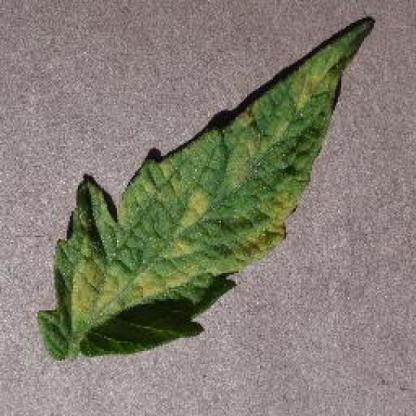Strawberry_Anthracnose_Fruit_Rot: (66, 265, 128, 315), (137, 266, 199, 294), (296, 65, 333, 106), (175, 191, 214, 228)
